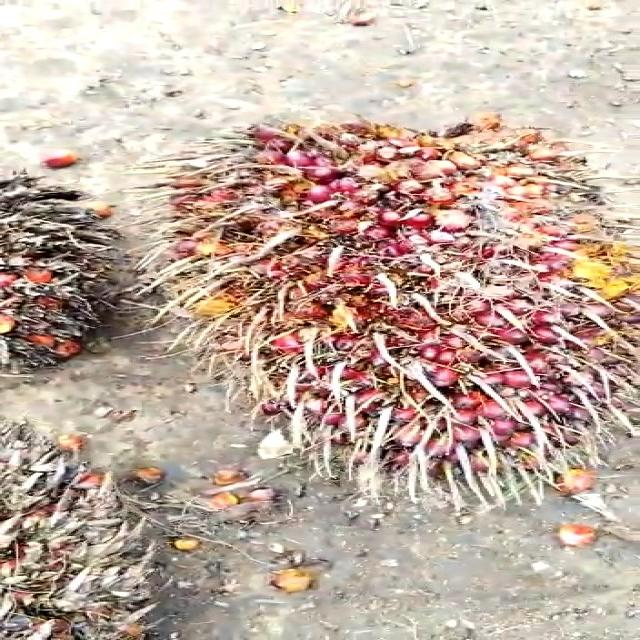palm oil: (168, 117, 640, 467)
